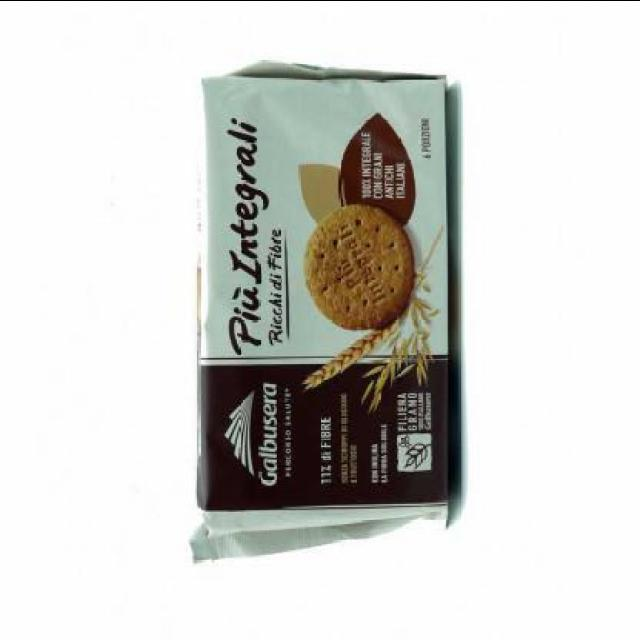Merendine: (173, 30, 464, 582)
